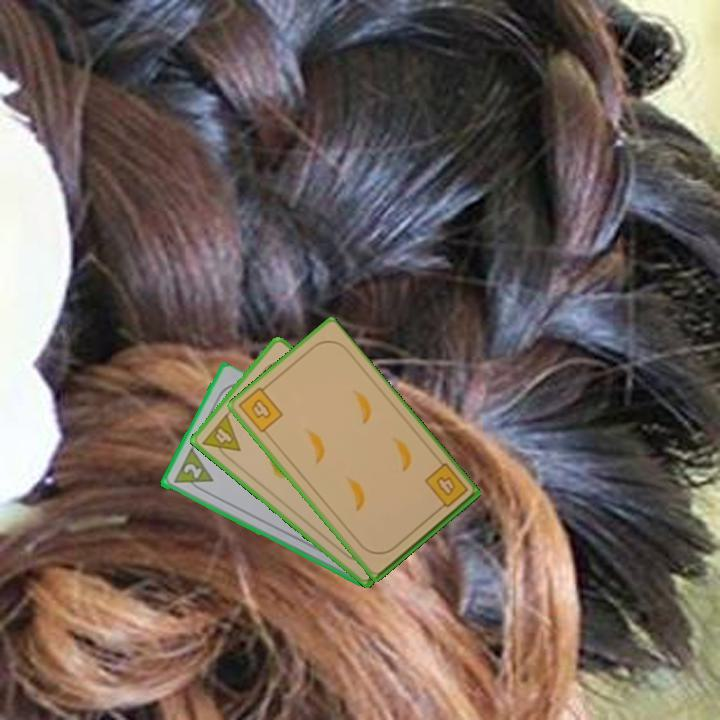2p: (179, 460, 205, 482)
4b: (235, 381, 286, 436), (421, 460, 471, 515)
4p: (199, 410, 244, 464)
